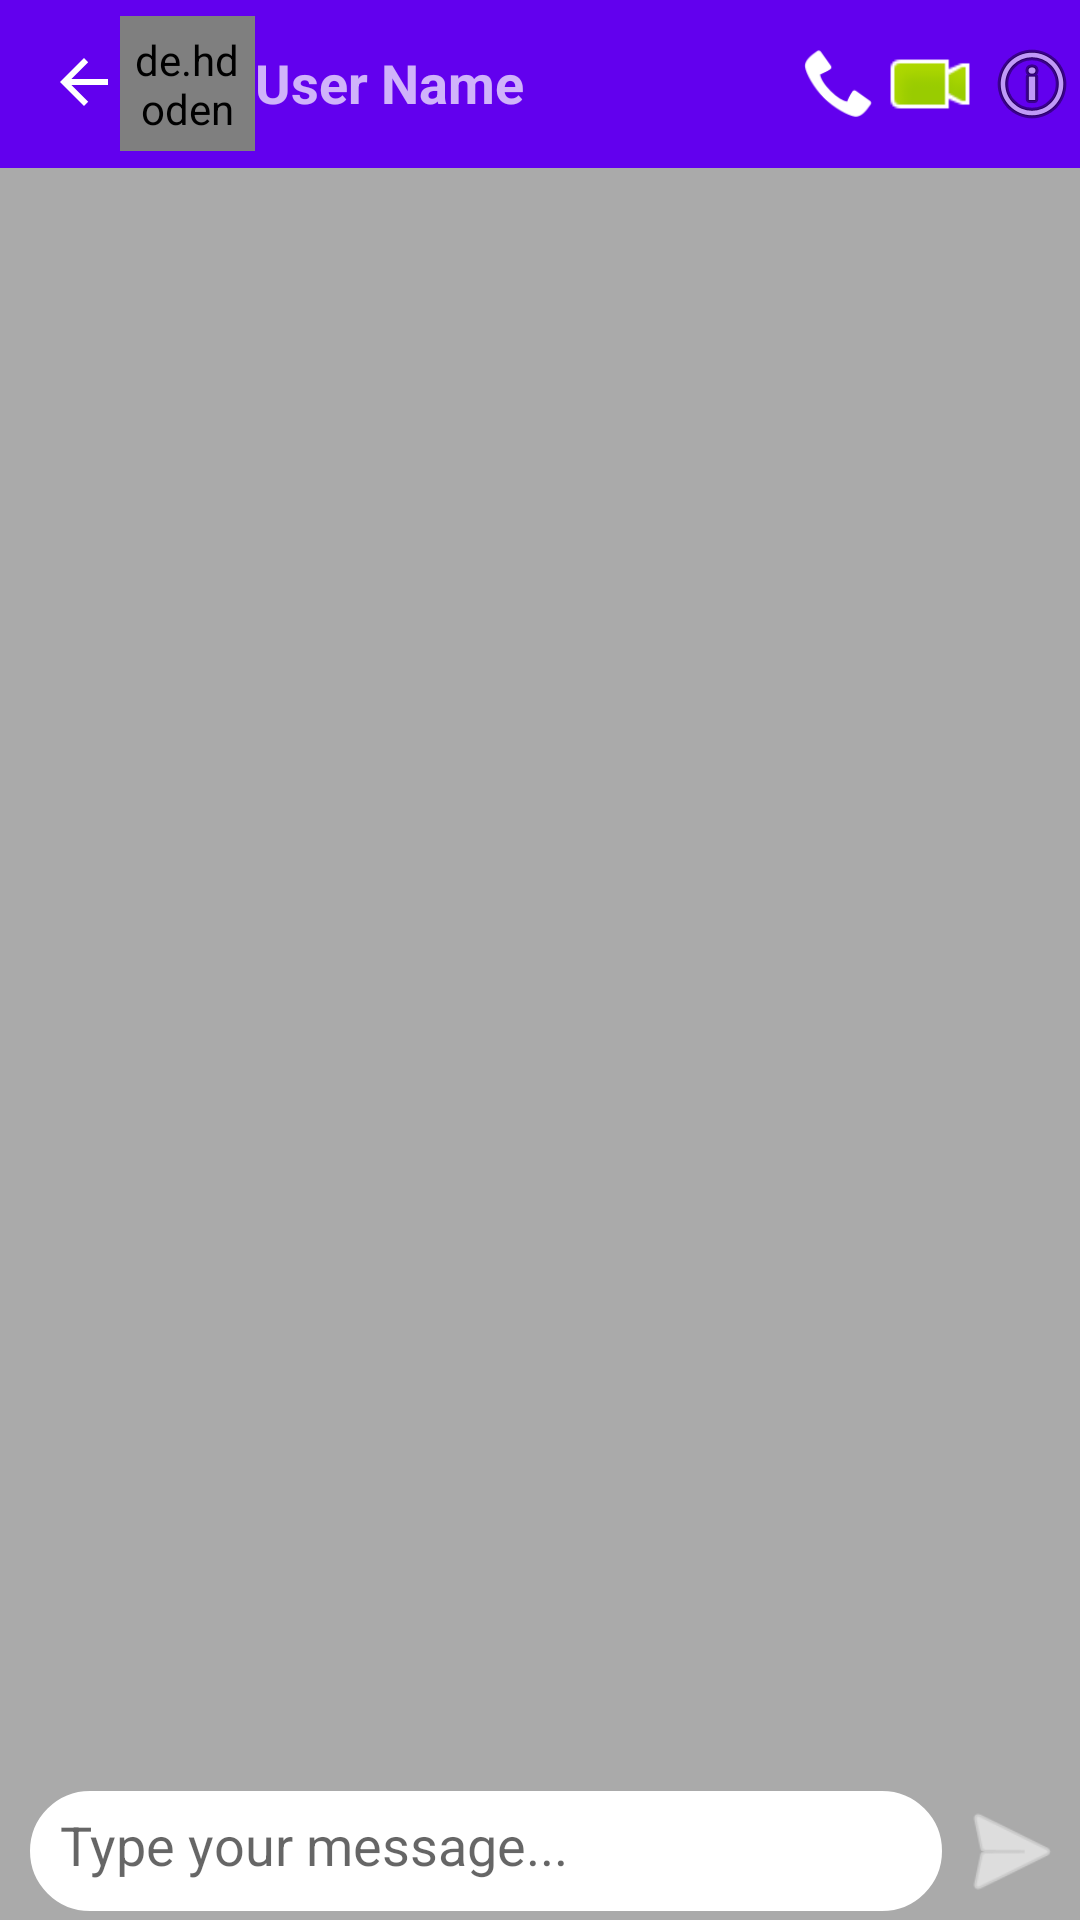

Icon click points for this 1080x1920 phone screenshot, format point (x, y):
info details: point (1032, 84)
phone call: point (838, 83)
send: point (1012, 1851)
